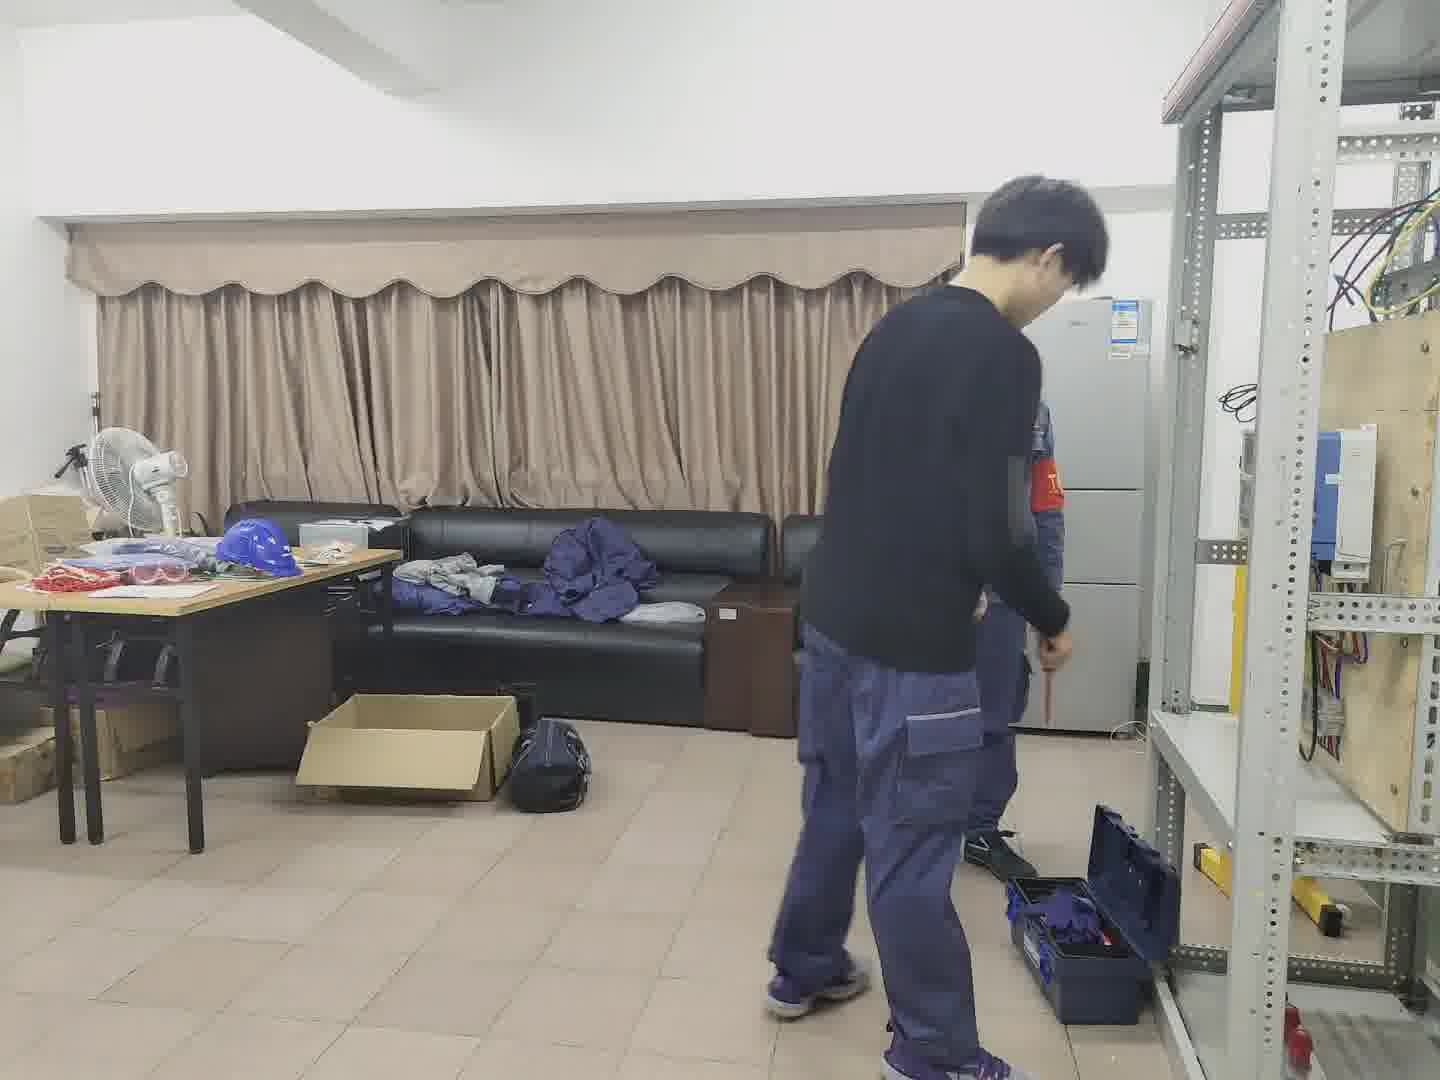badge: (1031, 456, 1068, 516)
downsuit: (766, 667, 1016, 1078)
hand: (1034, 635, 1075, 673)
noear: (1008, 235, 1069, 296)
person: (753, 171, 1118, 1080)
unhalt: (967, 175, 1113, 325)
upcloth: (805, 280, 1060, 651)
